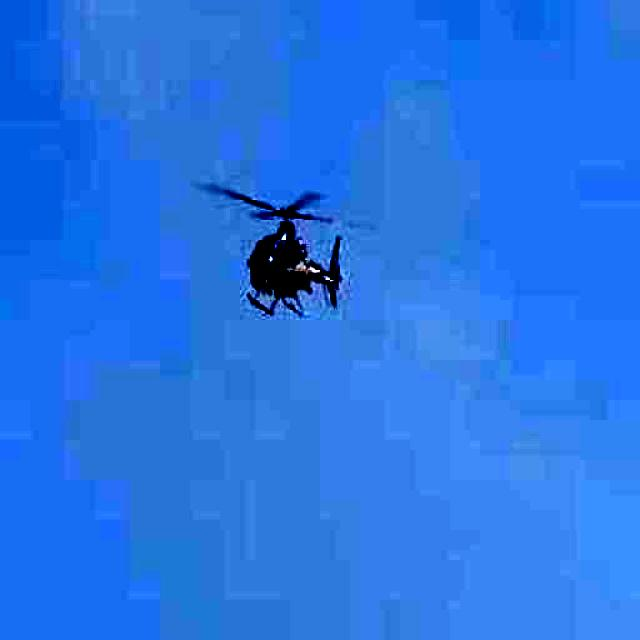drone: (161, 148, 389, 345)
